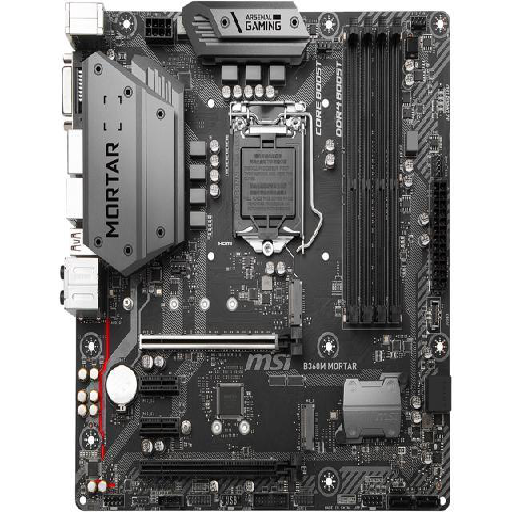CPU: (231, 125, 305, 256)
GPU: (136, 328, 304, 358), (134, 454, 303, 483)
MOTHERBOARD: (61, 6, 452, 512)
RAM: (341, 20, 406, 332)
SSD: (284, 278, 306, 327), (295, 400, 316, 451)
